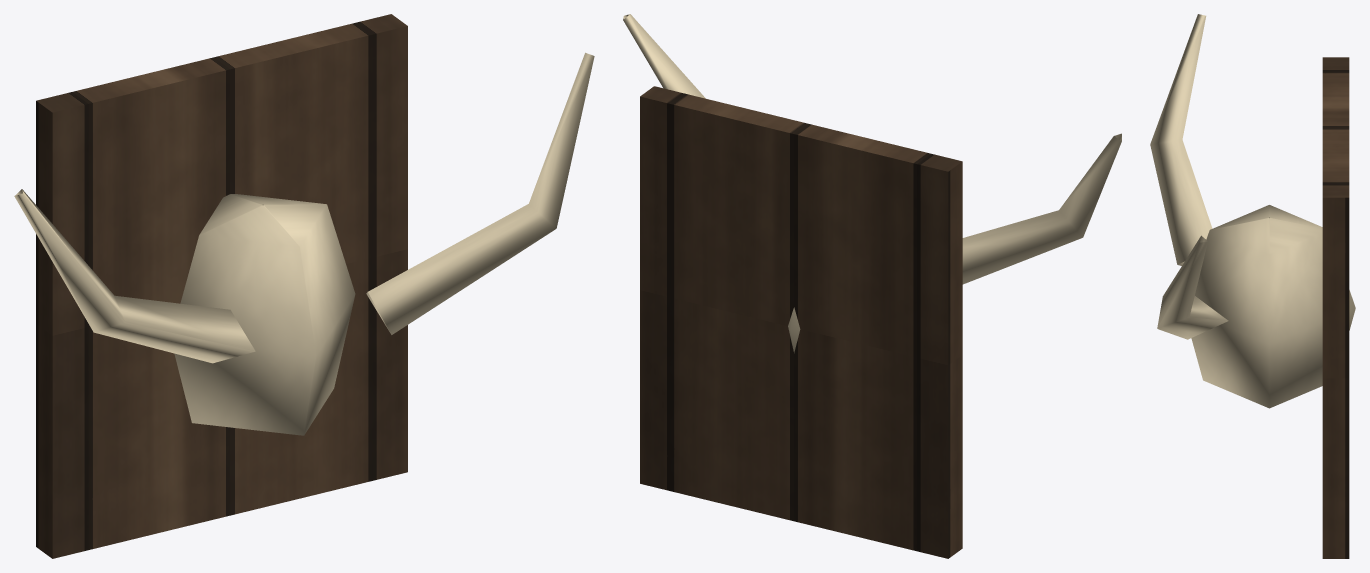
Rendered from Trophy_Skull_1_LOD2.gltf.
The picture shows the model from 3 angles, left to right: view 1: azimuth 30°, elevation 25°; view 2: azimuth 150°, elevation 25°; view 3: azimuth 270°, elevation 25°; orthographic projection. The views are drawn at different scales.
Visible parts, largest first — view 1: Trophy_Skull_1_LOD2; view 2: Trophy_Skull_1_LOD2; view 3: Trophy_Skull_1_LOD2.
Boxes of the visible parts, x1=… form: Trophy_Skull_1_LOD2: x1=14, y1=14, x2=594, y2=558; Trophy_Skull_1_LOD2: x1=623, y1=14, x2=1121, y2=558; Trophy_Skull_1_LOD2: x1=1150, y1=14, x2=1355, y2=558.
Bounding box in the file's own units: 0.8121 × 0.6044 × 0.3096.
2 materials, 2 textured.
